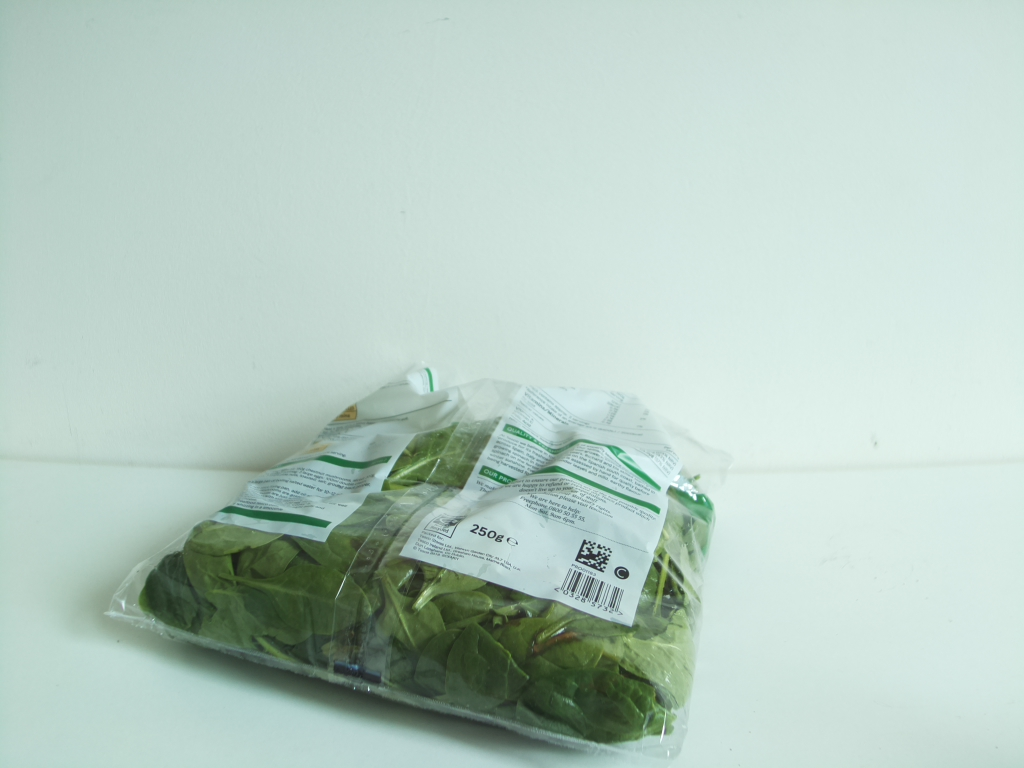salad: (136, 382, 712, 752)
